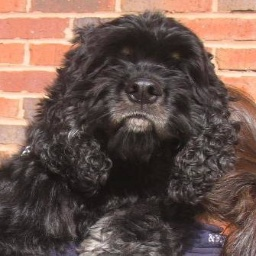dog: (0, 12, 239, 250)
